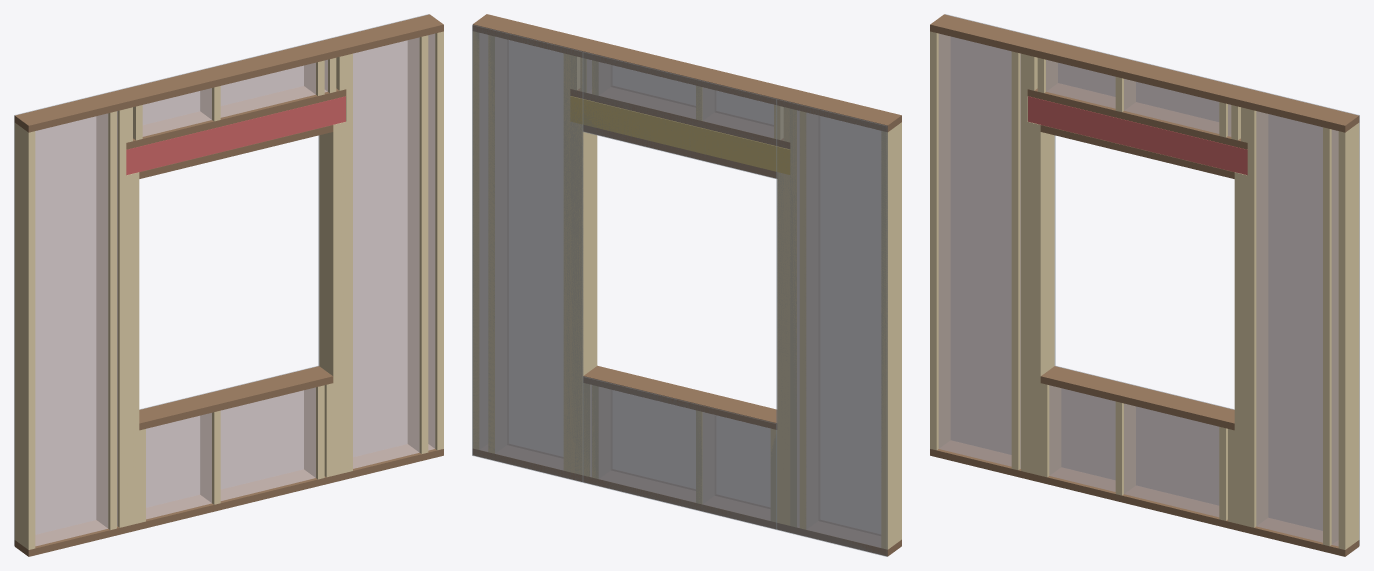
3 renders of one model, left to right at view 1: azimuth 30°, elevation 25°; view 2: azimuth 150°, elevation 25°; view 3: azimuth 330°, elevation 25°, orthographic.
Visible parts, largest first — view 1: EX22 FF; view 2: EX22 FF; view 3: EX22 FF.
Part boxes in pixels (bbox=[...]): EX22 FF: bbox=[14, 14, 443, 556]; EX22 FF: bbox=[472, 14, 901, 556]; EX22 FF: bbox=[930, 14, 1359, 556].
Bounding box in the file's own units: 2.4 × 2.38 × 0.149.
